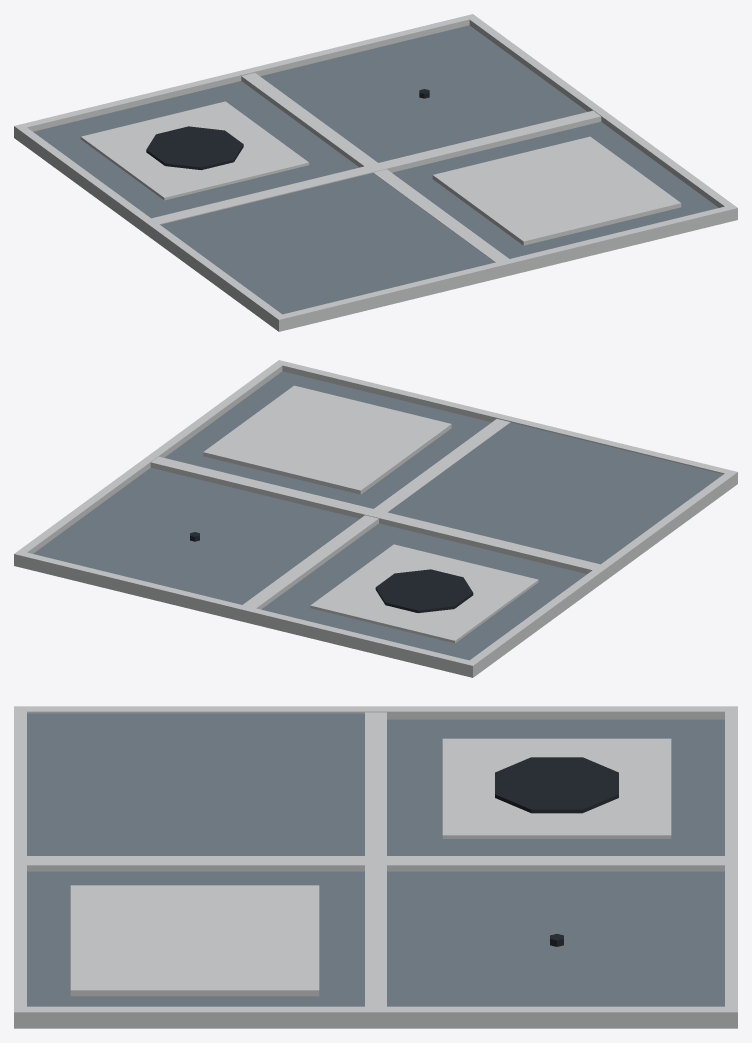
Rendered from suspended-ceiling-grid-panel-ea01a3.glb.
3 renders of one model, top to bottom at view 1: azimuth 30°, elevation 25°; view 2: azimuth 150°, elevation 25°; view 3: azimuth 270°, elevation 25°, orthographic. The views are drawn at different scales.
Parts seen in each view (by area): view 1: ceiling-module; view 2: ceiling-module; view 3: ceiling-module.
Boxes of the visible parts, x1,y1,x2,y2 form: ceiling-module: [14, 14, 737, 331]; ceiling-module: [14, 360, 737, 677]; ceiling-module: [14, 706, 737, 1028].
Bounding box in the file's own units: 2 × 0.084 × 2.
